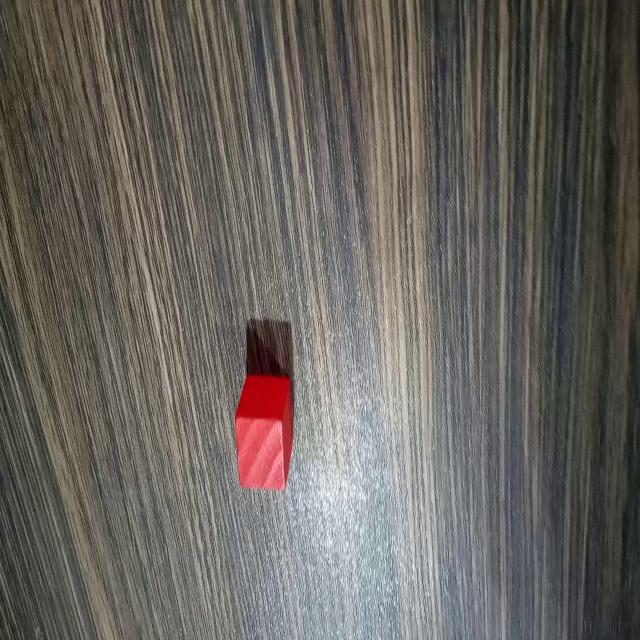cube: (232, 369, 296, 498)
